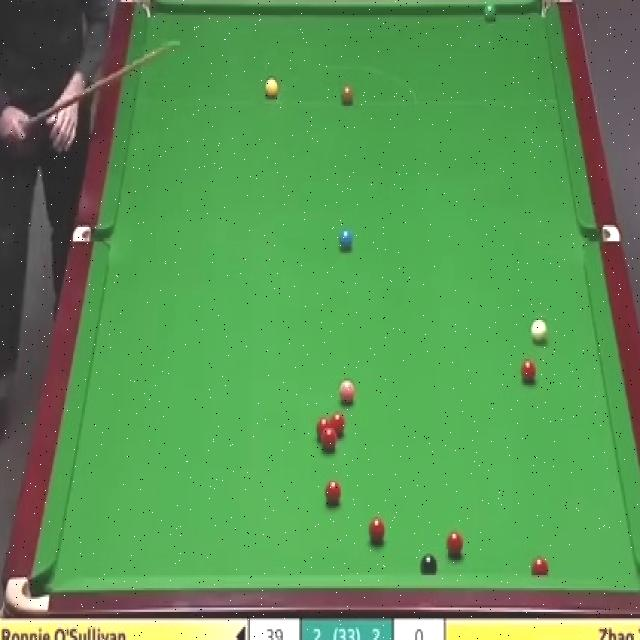black-ball: (419, 553, 437, 574)
blue-ball: (338, 228, 354, 252)
brown-ball: (340, 83, 355, 107)
green-ball: (483, 3, 498, 20)
pink-ball: (338, 378, 355, 403)
red-ball: (368, 515, 386, 546), (446, 529, 464, 558), (326, 478, 342, 506), (521, 358, 537, 384), (532, 556, 550, 577), (322, 428, 337, 452), (331, 412, 345, 436), (318, 418, 330, 432)
white-ball: (530, 316, 548, 342)
yellow-ball: (264, 78, 278, 99)
